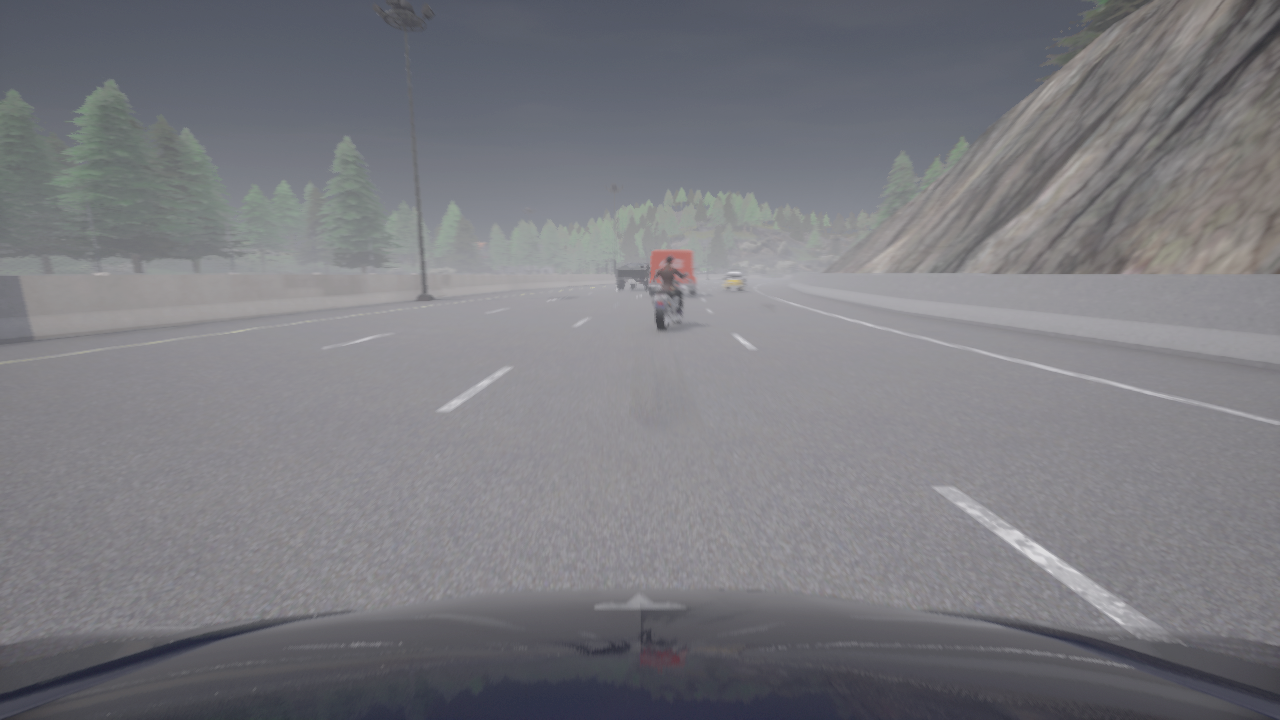cyclist: (0, 588, 1279, 719), (648, 250, 697, 296), (652, 272, 687, 330), (617, 262, 650, 290), (723, 271, 744, 292), (723, 269, 747, 287)
